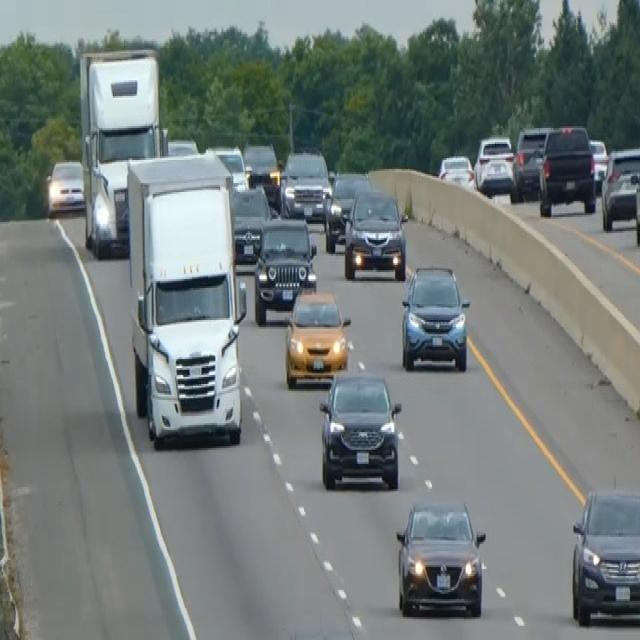car: (395, 496, 486, 617), (318, 368, 402, 491), (570, 485, 639, 626), (400, 263, 470, 372), (253, 215, 317, 325), (283, 286, 351, 388), (343, 187, 408, 281), (538, 123, 596, 217), (323, 169, 370, 252), (280, 147, 331, 220), (600, 146, 639, 231), (231, 183, 271, 265), (513, 125, 551, 199), (242, 140, 281, 208), (473, 133, 515, 194), (205, 142, 248, 194), (47, 158, 85, 215), (437, 153, 474, 187), (588, 137, 608, 192), (165, 135, 198, 157), (632, 153, 639, 245)
lorry: (124, 149, 247, 448), (77, 44, 166, 258)
